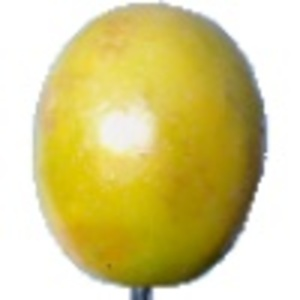maracujá: (30, 1, 271, 300)
